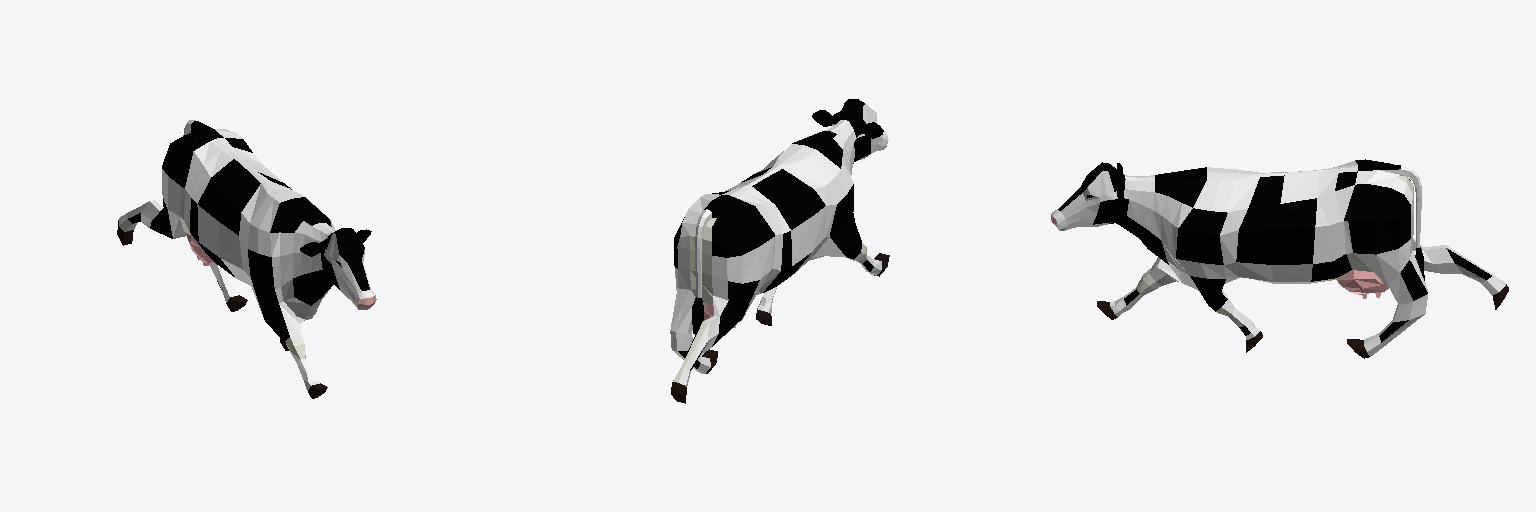
The model's file is cow_walk2.obj.
3 renders of one model, left to right at view 1: azimuth 30°, elevation 25°; view 2: azimuth 150°, elevation 25°; view 3: azimuth 270°, elevation 25°, orthographic.
Visible parts, largest first — view 1: vache; view 2: vache; view 3: vache.
Boxes of the visible parts, box(x1,y1,x2,y2) form: vache: box(117, 120, 376, 398); vache: box(670, 99, 889, 403); vache: box(1051, 159, 1508, 358).
Bounding box in the file's own units: 0.7486 × 1.6 × 3.63.